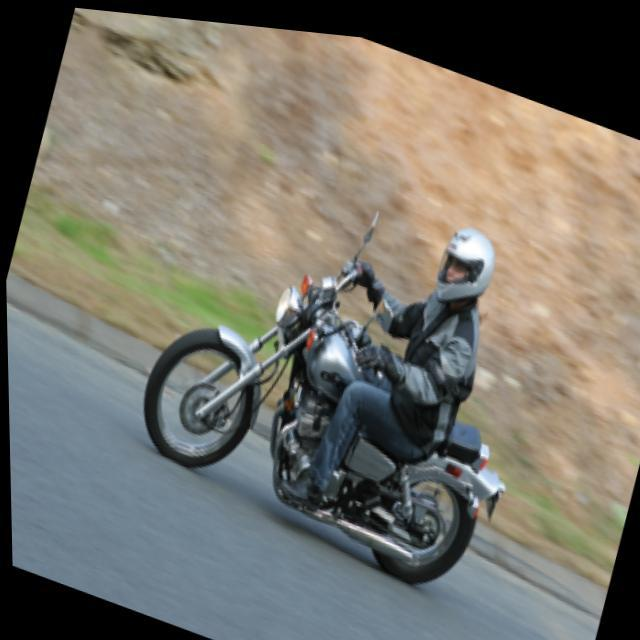Helmet: (429, 225, 499, 308)
